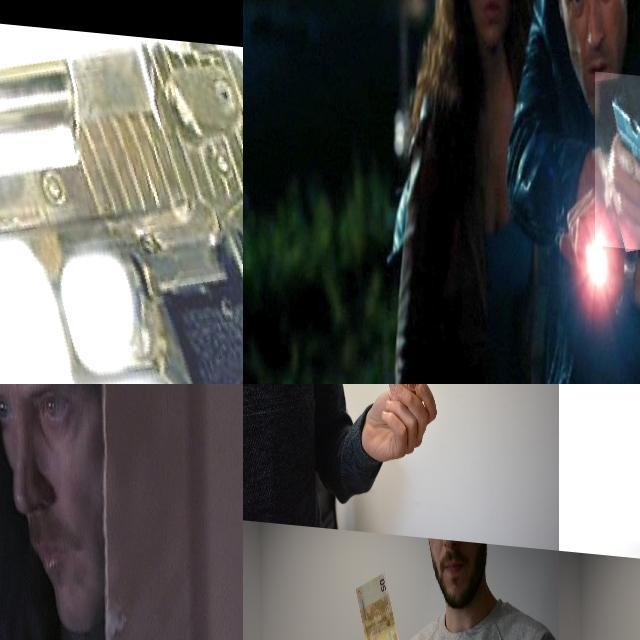gun-knife-thesis - v11 Yolov5 augmented: (0, 0, 243, 384), (595, 63, 640, 244)
